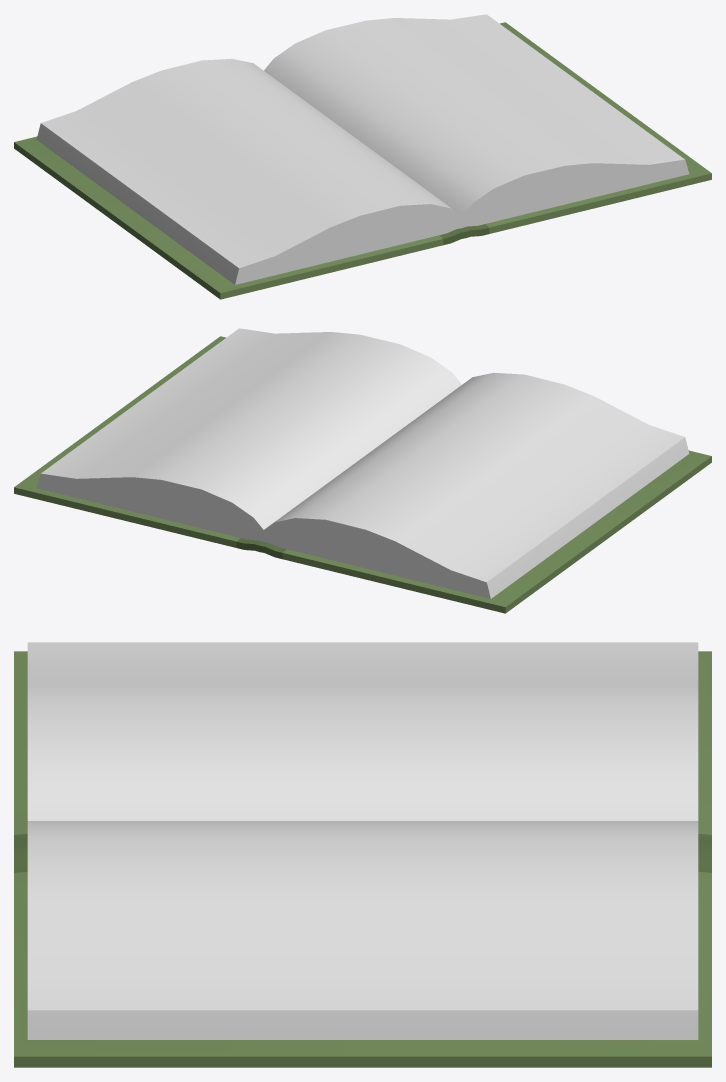
The model's file is Book_01_Open_01.fbx.
The picture shows the model from 3 angles, top to bottom: view 1: azimuth 30°, elevation 25°; view 2: azimuth 150°, elevation 25°; view 3: azimuth 270°, elevation 25°; orthographic projection. The views are drawn at different scales.
Parts seen in each view (by area): view 1: Book_01_Open_01; view 2: Book_01_Open_01; view 3: Book_01_Open_01.
Part boxes in pixels (x1,y1,x2,y2): Book_01_Open_01: [14, 14, 711, 299]; Book_01_Open_01: [14, 328, 711, 613]; Book_01_Open_01: [14, 642, 711, 1067].
Size of the model in its own units: 0.3253 by 0.0292 by 0.2367.
